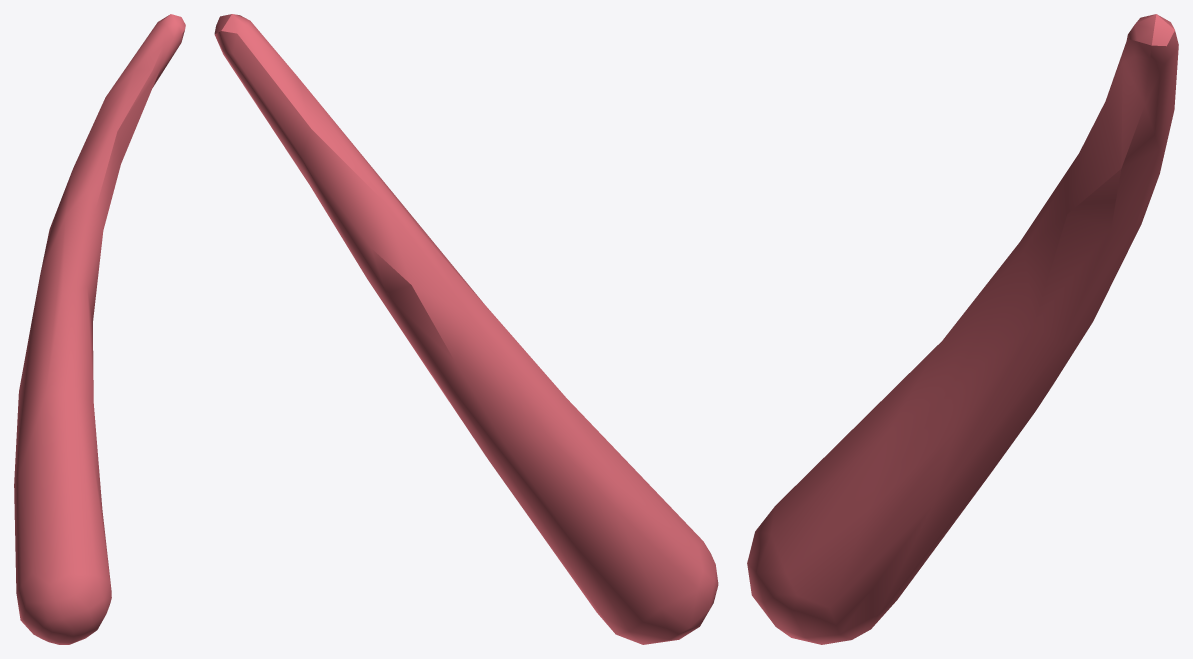
Rendered from fma13281_fj5988.glb.
3 renders of one model, left to right at view 1: azimuth 30°, elevation 25°; view 2: azimuth 150°, elevation 25°; view 3: azimuth 270°, elevation 25°, orthographic. The views are drawn at different scales.
Parts seen in each view (by area): view 1: FMA13281_FJ5988; view 2: FMA13281_FJ5988; view 3: FMA13281_FJ5988.
Part boxes in pixels (<box>): FMA13281_FJ5988: <box>14,14,185,644</box>; FMA13281_FJ5988: <box>214,14,718,644</box>; FMA13281_FJ5988: <box>747,14,1178,644</box>.
Size of the model in its own units: 0.00927 by 0.0164 by 0.00816.
